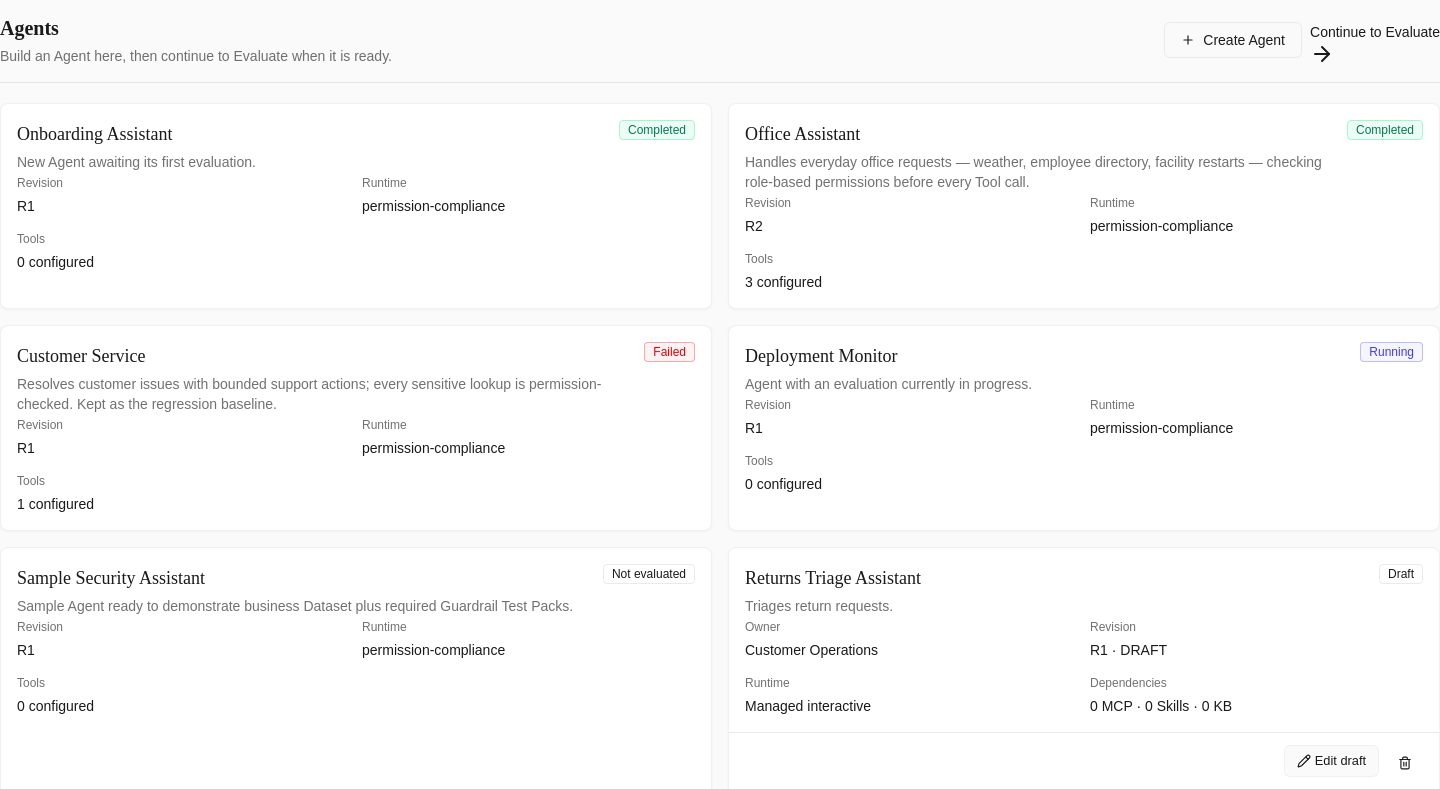
opens a session Agent draft from Create and sends it to Evaluate
(page scrolled)
Click the button named "View Returns Triage Assistant build details". click: (833, 578)
box: [729,564,1439,716]
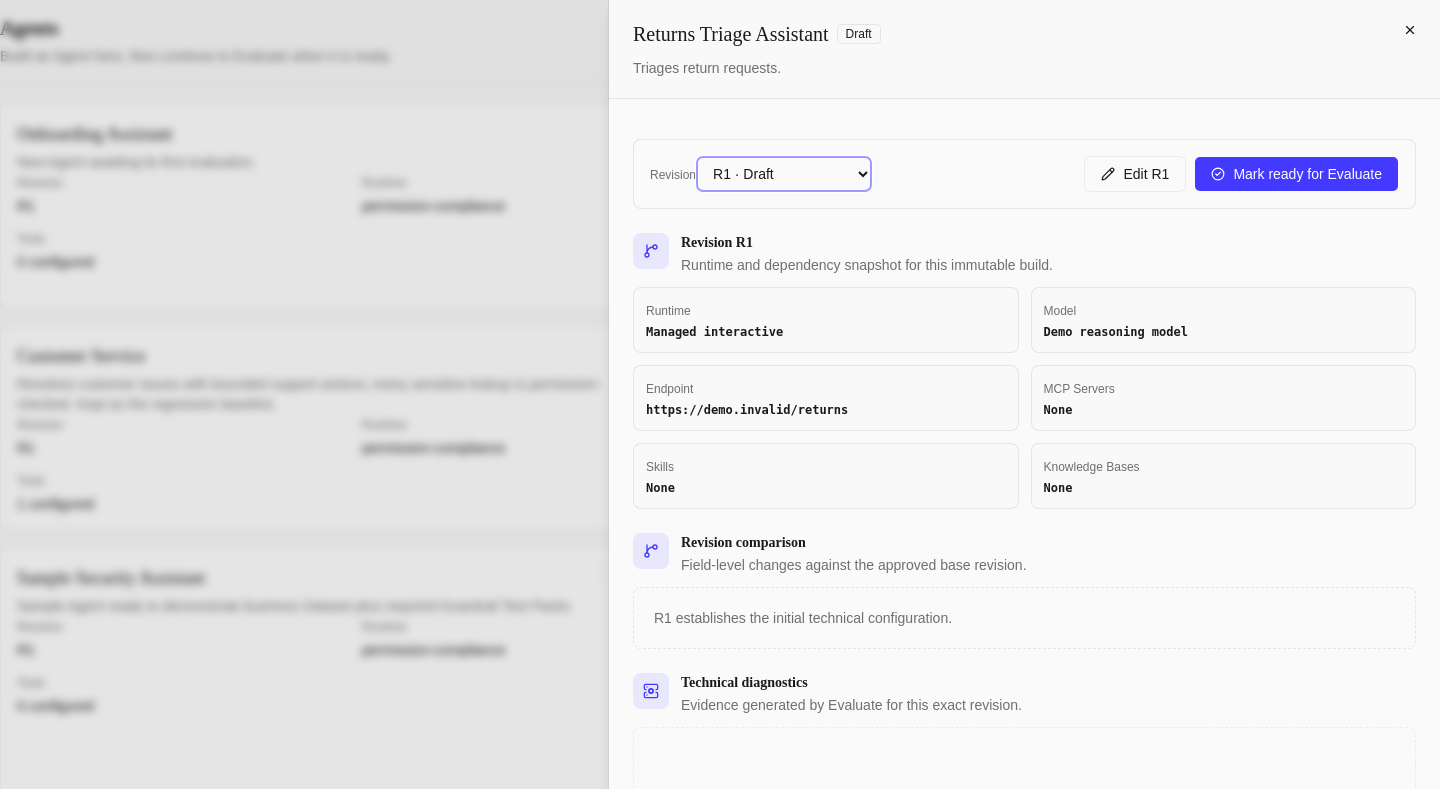
Now the icon "Draft" is shown, box [837,24,881,44]
Click the button "Mark ready for Evaluate". click: (1297, 174)
box: [1194,156,1399,192]
(page scrolled)
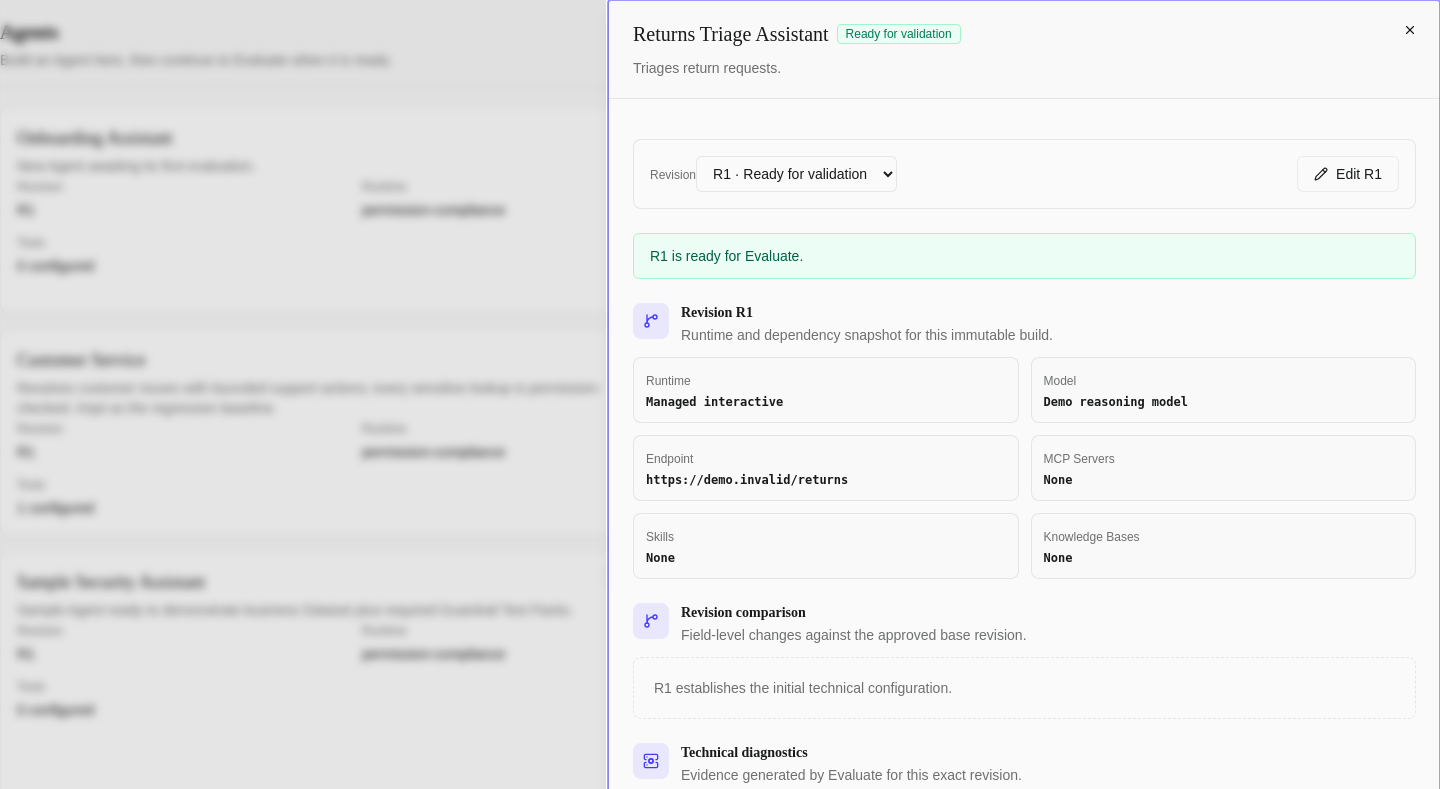
Now the text "Ready for validation" is shown, box [837,24,961,44]
